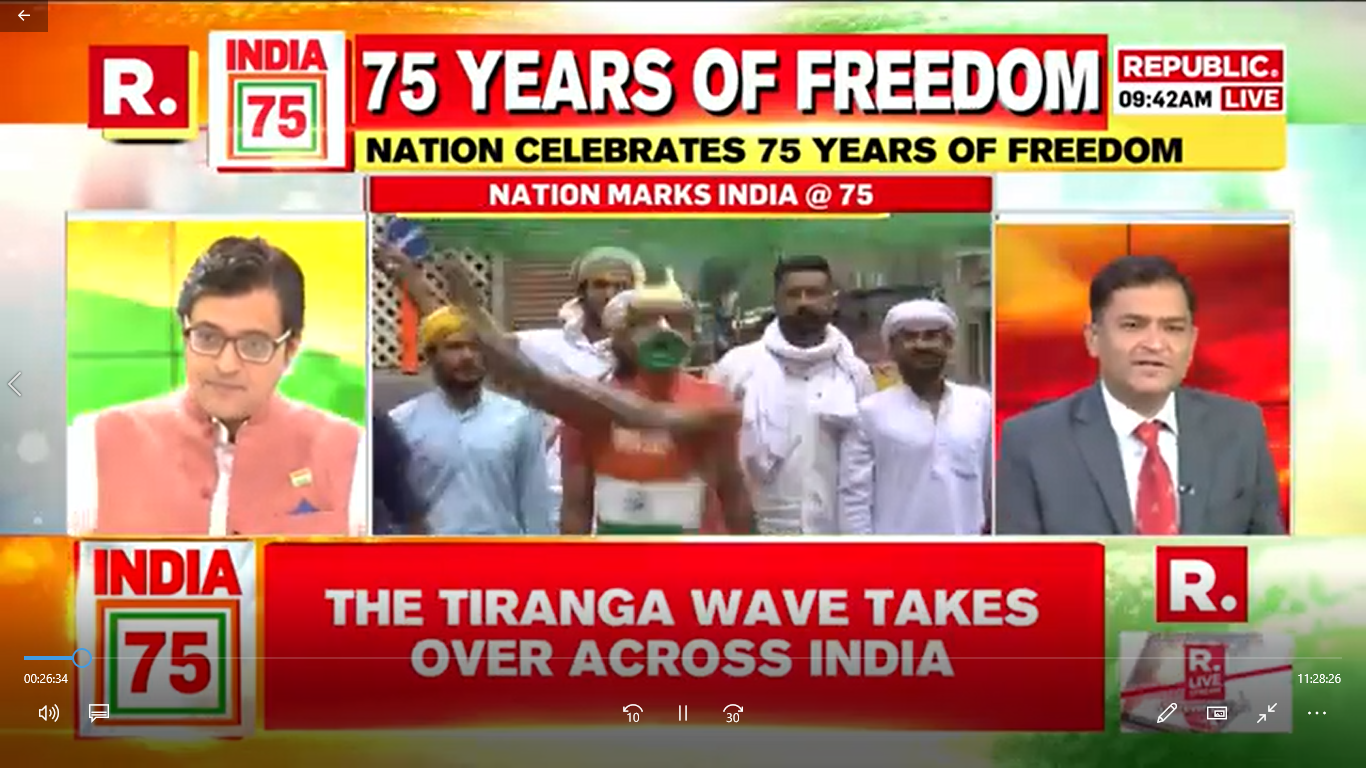Indi75: (69, 541, 264, 733), (206, 28, 346, 168)
person: (60, 217, 364, 537), (988, 219, 1292, 537), (393, 304, 549, 546), (587, 295, 736, 531), (749, 256, 862, 532), (870, 301, 987, 541)
